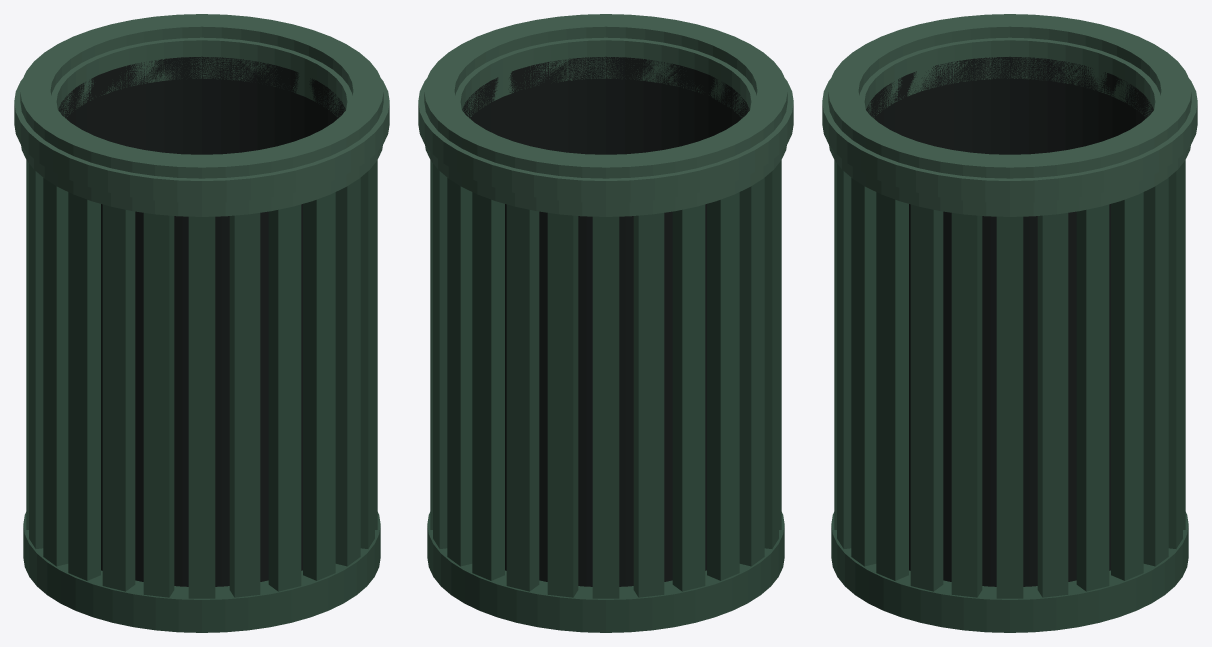
File: ParkBin.gltf
3 views of the same model, side by side, from view 1: azimuth 30°, elevation 25°; view 2: azimuth 150°, elevation 25°; view 3: azimuth 270°, elevation 25° (orthographic).
Parts seen in each view (by area): view 1: SM_ParkBin; view 2: SM_ParkBin; view 3: SM_ParkBin.
Part boxes in pixels (x1=…): SM_ParkBin: x1=14, y1=14, x2=389, y2=632; SM_ParkBin: x1=418, y1=14, x2=793, y2=632; SM_ParkBin: x1=822, y1=14, x2=1197, y2=632.
Bounding box in the file's own units: 0.62 × 0.85 × 0.62.
